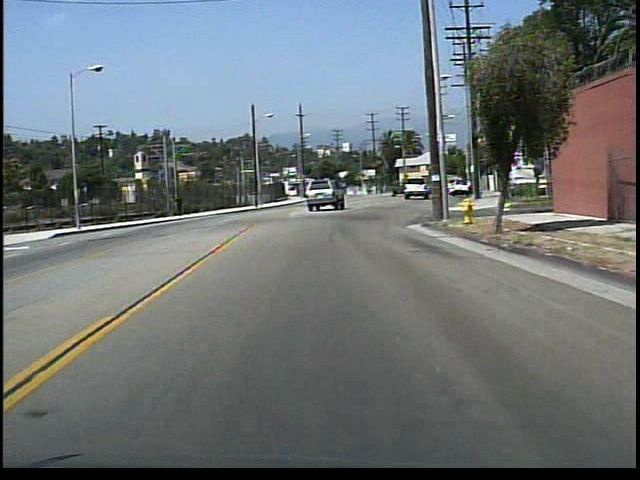person: (173, 189, 190, 217)
